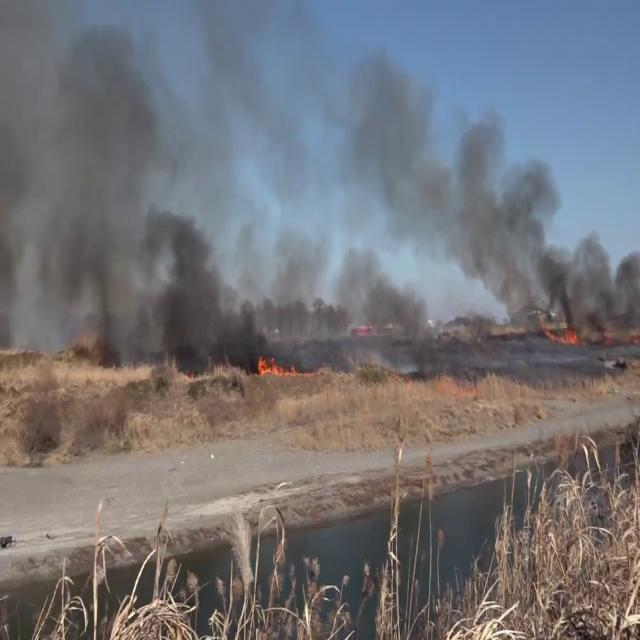Fire: (255, 346, 297, 379)
Smoke: (1, 0, 289, 363), (320, 60, 640, 343)
